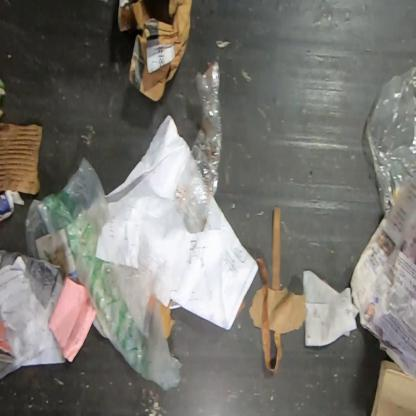cardboard: (117, 0, 193, 102), (0, 121, 44, 197), (369, 361, 415, 415), (268, 287, 306, 334), (247, 284, 264, 328), (160, 299, 176, 339), (0, 76, 7, 122)
soft_plastic: (24, 156, 184, 391), (173, 61, 222, 234), (363, 64, 416, 221)
